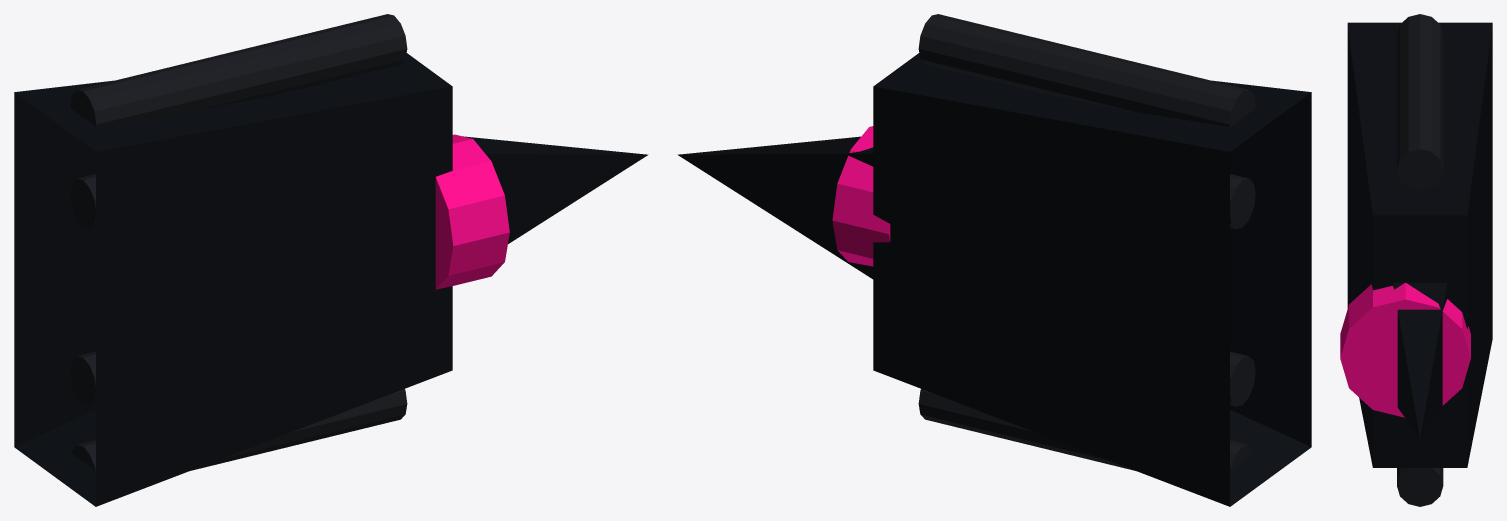
File: weaver.obj
3 renders of one model, left to right at view 1: azimuth 30°, elevation 25°; view 2: azimuth 150°, elevation 25°; view 3: azimuth 270°, elevation 25°, orthographic. The views are drawn at different scales.
Visible parts, largest first — view 1: weaver; view 2: weaver; view 3: weaver.
Part boxes in pixels (x1,y1,x2,y2): weaver: (14,14,648,506); weaver: (677,14,1311,506); weaver: (1340,14,1492,506).
Bounding box in the file's own units: 4.2 × 2.72 × 1.05.
